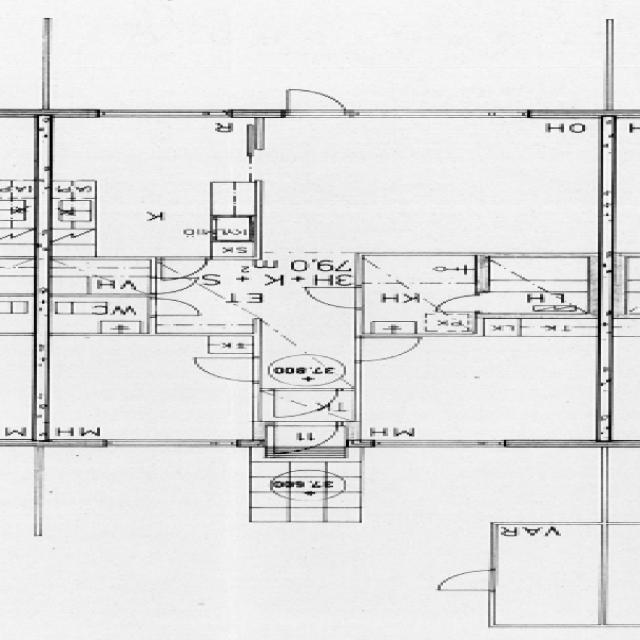door: (254, 388, 352, 424), (264, 422, 343, 453), (277, 85, 350, 118), (186, 354, 264, 384), (425, 566, 499, 594), (350, 335, 426, 362), (297, 284, 366, 310), (147, 296, 206, 319), (156, 255, 211, 279), (431, 294, 484, 314), (148, 276, 200, 294)
window: (361, 436, 517, 452), (97, 436, 244, 452), (345, 108, 531, 120), (87, 107, 237, 120)
zone: (251, 116, 611, 257), (43, 115, 254, 259), (355, 332, 604, 444), (38, 334, 256, 445), (492, 522, 609, 625), (357, 254, 480, 336), (245, 457, 362, 523), (482, 255, 596, 316), (45, 294, 151, 336), (46, 258, 153, 294), (260, 388, 345, 422), (476, 314, 599, 336), (262, 422, 346, 453), (0, 295, 38, 334)
